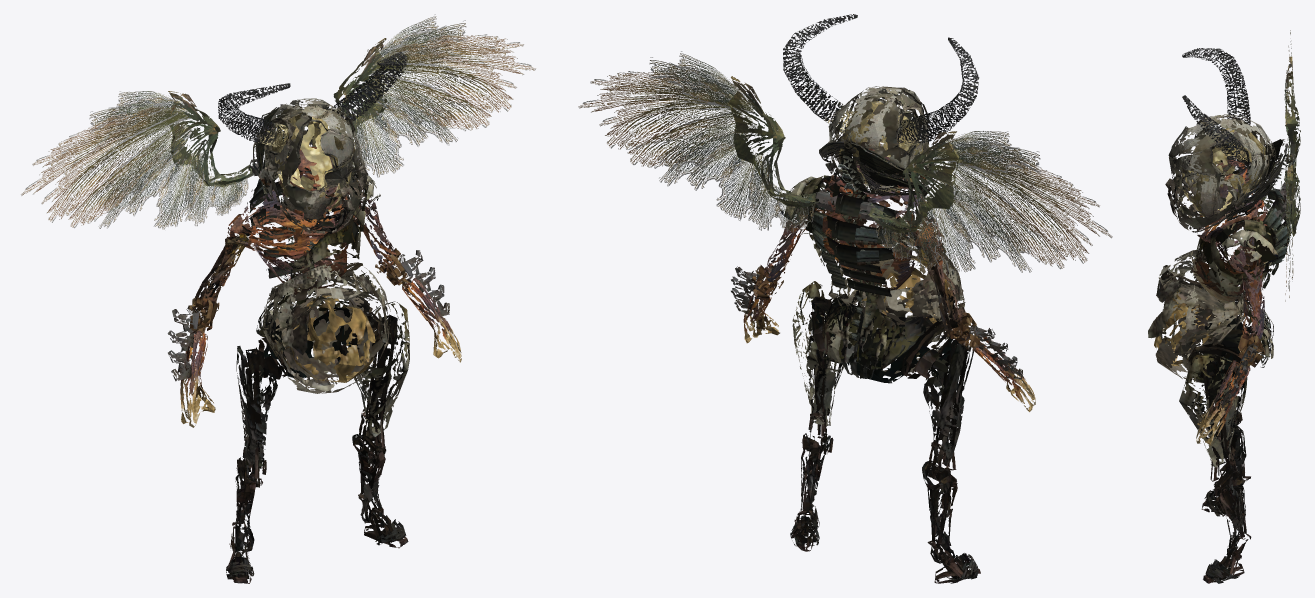
The model's file is vectorizado.obj.
The picture shows the model from 3 angles, left to right: view 1: azimuth 30°, elevation 25°; view 2: azimuth 150°, elevation 25°; view 3: azimuth 270°, elevation 25°; orthographic projection. The views are drawn at different scales.
Parts seen in each view (by area): view 1: rdmobj01, rdmobj02, rdmobj00; view 2: rdmobj01, rdmobj02, rdmobj00; view 3: rdmobj01, rdmobj00, rdmobj02.
Part boxes in pixels (x1,y1,x2,y2): rdmobj01: (167,146,461,583); rdmobj02: (21,14,535,229); rdmobj00: (218,51,407,233); rdmobj01: (731,144,1035,583); rdmobj02: (578,51,1112,272); rdmobj00: (783,14,979,198); rdmobj01: (1148,159,1297,583); rdmobj00: (1165,48,1295,232); rdmobj02: (1284,30,1300,301).
Bounding box in the file's own units: 5.43 × 4.93 × 1.45.
Materials: 3 (3 with a texture image).
